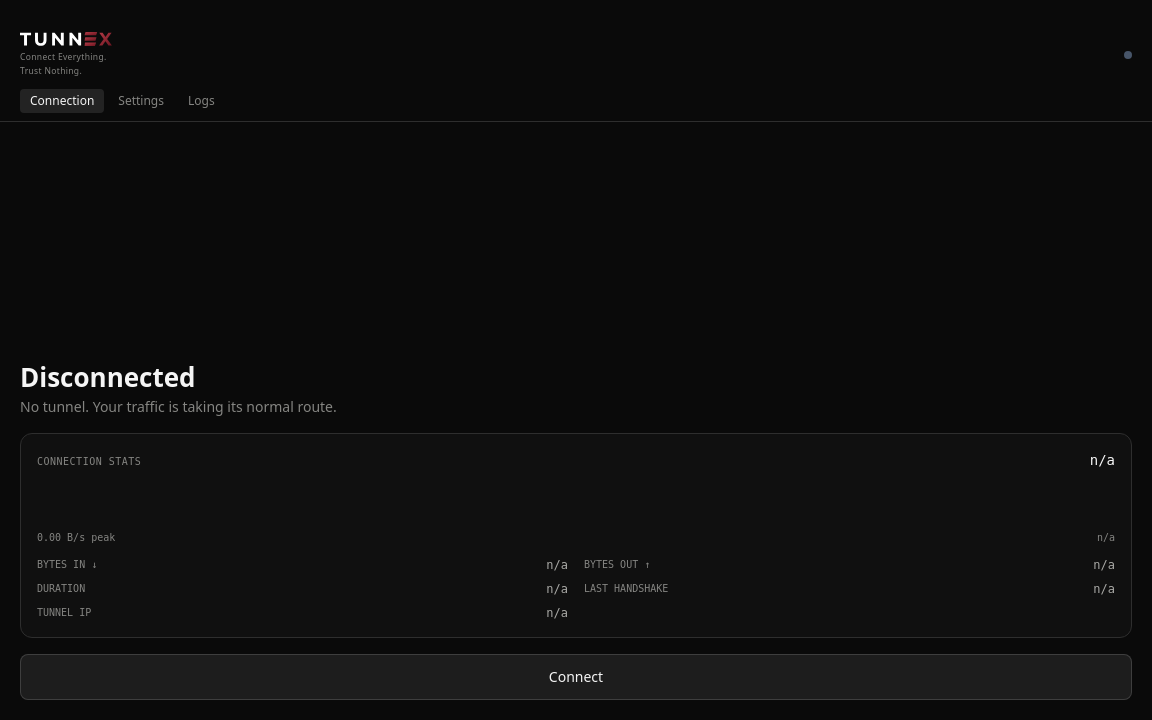
Test: the client asks the SESSION, not only the tunnel › any OTHER failure is shown verbatim rather than swallowed
Step 1. Click the button "Connect" → (576, 677), box [20,654,1132,700]
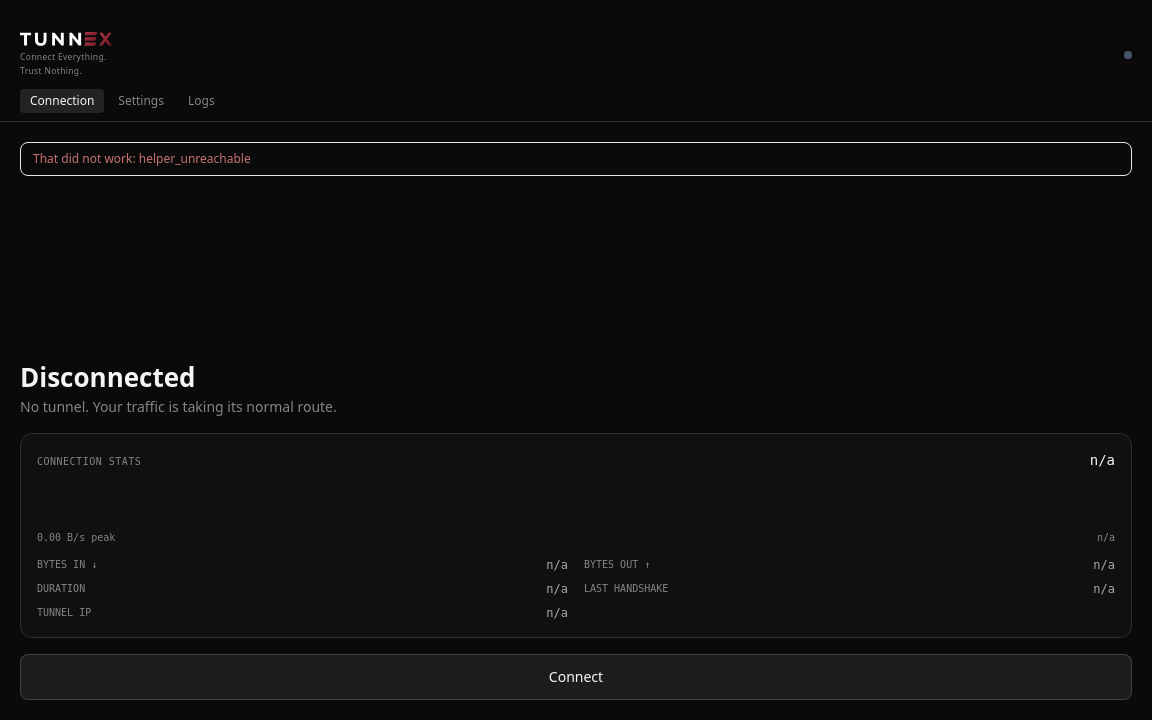
Expected: the text "That did not work: helper_unreachable" is shown, [20,142,1132,176]
